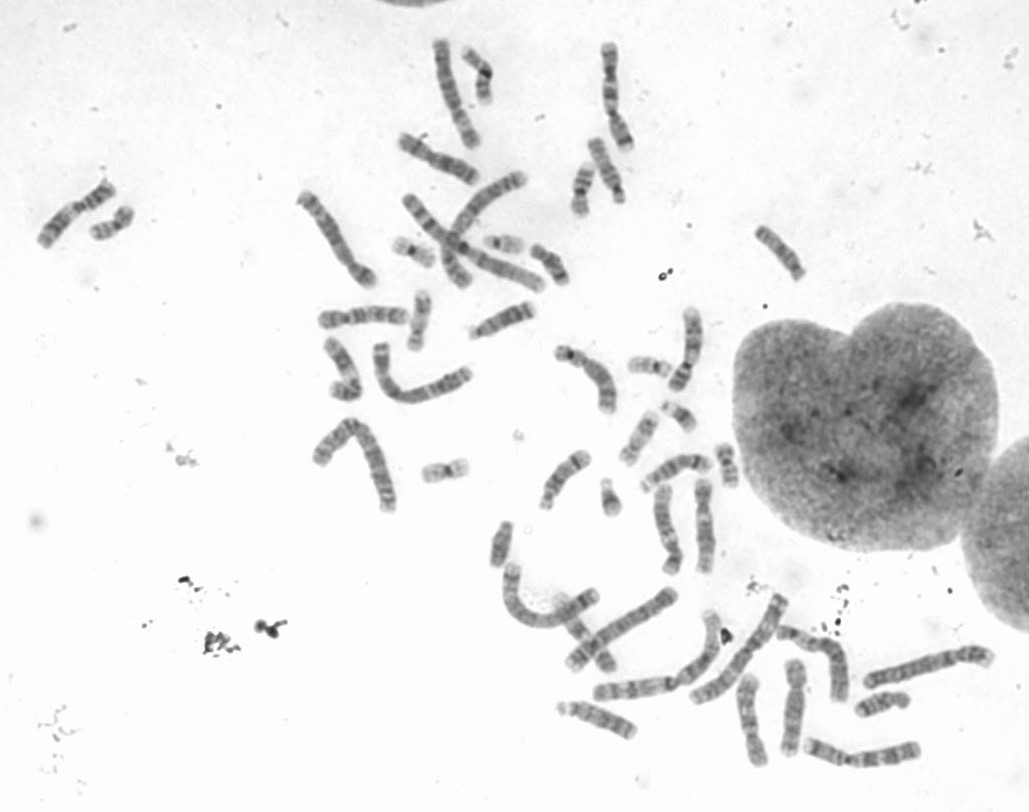chromosomes: (402, 194, 550, 296), (685, 588, 791, 711), (590, 606, 724, 702), (564, 578, 683, 675), (439, 168, 532, 292), (310, 416, 402, 523), (294, 191, 384, 293), (30, 174, 121, 262), (498, 561, 603, 633), (859, 643, 997, 694), (372, 343, 475, 408), (547, 590, 619, 679), (775, 623, 853, 705), (432, 33, 484, 153), (393, 129, 484, 189), (802, 733, 924, 774), (550, 347, 621, 415), (601, 38, 638, 156), (735, 670, 778, 766), (552, 699, 640, 743), (538, 448, 597, 513), (667, 305, 710, 393), (466, 299, 546, 343), (778, 655, 811, 760), (313, 300, 414, 334), (754, 222, 808, 285), (651, 484, 685, 580), (586, 134, 629, 209), (640, 452, 714, 494), (320, 334, 364, 404), (614, 410, 662, 470), (692, 478, 718, 575), (460, 42, 496, 109), (530, 240, 575, 290), (404, 288, 436, 357), (852, 686, 915, 720), (83, 204, 139, 242), (569, 160, 600, 219), (420, 455, 475, 487), (393, 234, 438, 272), (487, 519, 518, 572), (713, 441, 742, 491), (660, 400, 700, 436), (625, 355, 679, 380), (480, 235, 530, 256), (601, 475, 623, 519)
